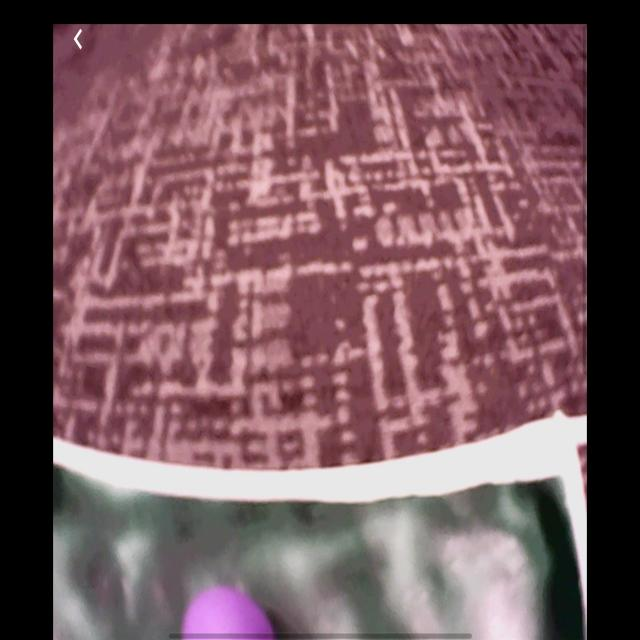ball: (184, 589, 272, 640)
